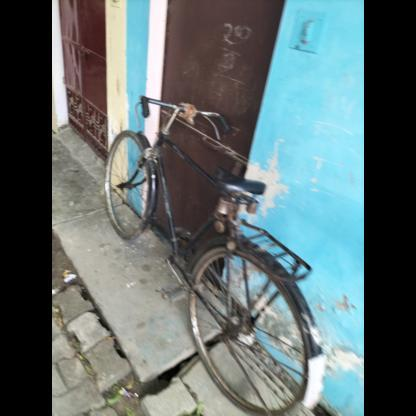Bicycle: (86, 88, 339, 416)
